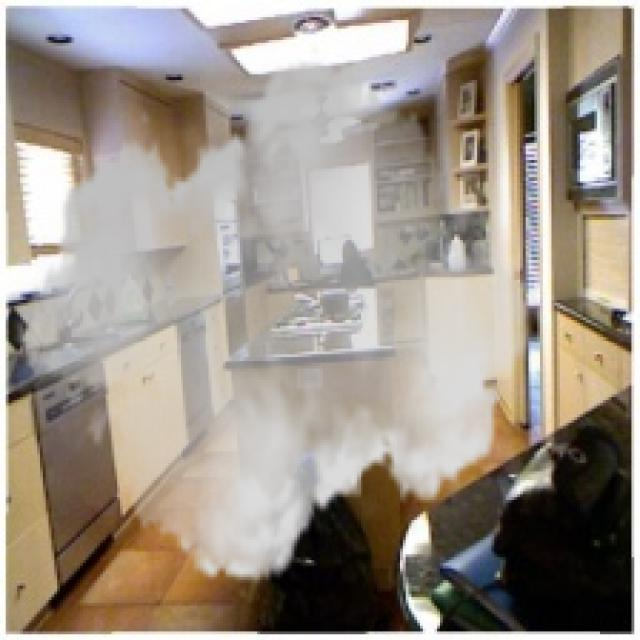smoke: (14, 40, 543, 603)
